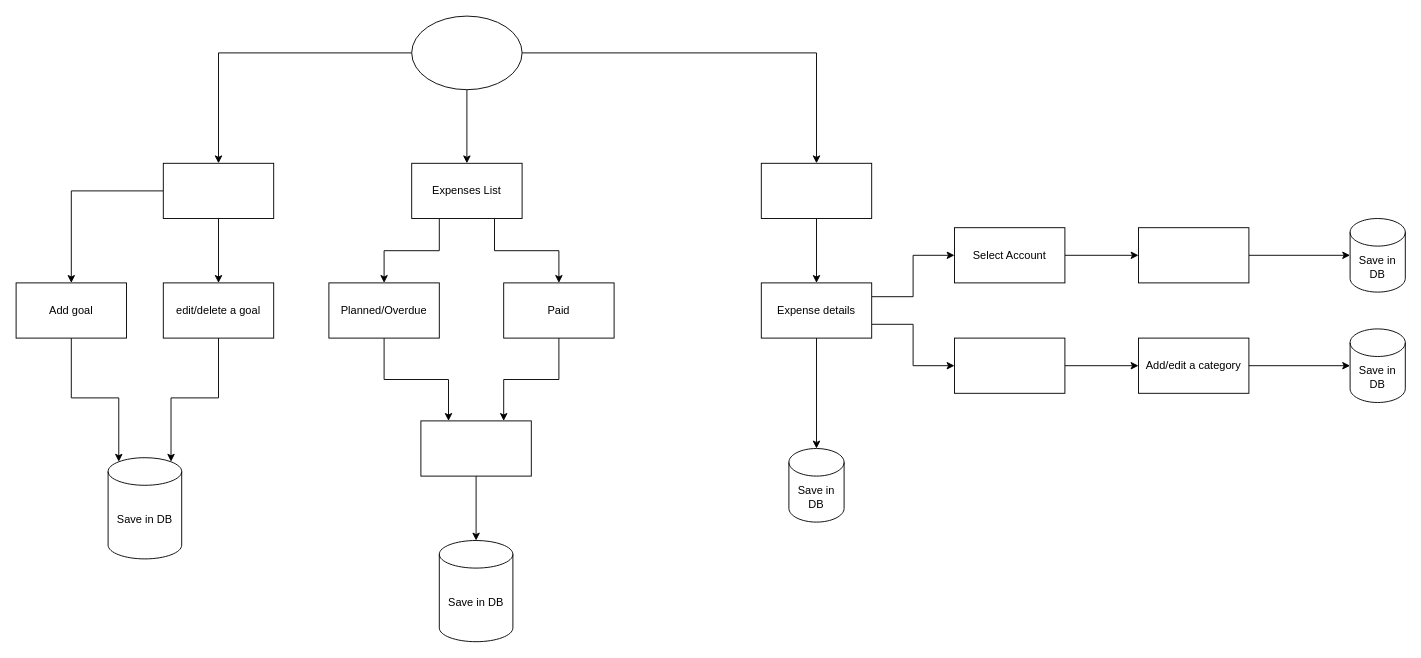
Some shapes in this 1421 by 658 pixel diagram are drawn without their labels. Here are the shapes that lost their labels. From the top down, the box of each, then its label:
(411, 15, 522, 90): Today
(162, 162, 274, 218): Goals List
(760, 162, 872, 218): Add Expense
(1138, 227, 1249, 283): Add/edit an account
(954, 337, 1065, 393): Select category
(420, 420, 531, 476): Edit/Delete transaction
